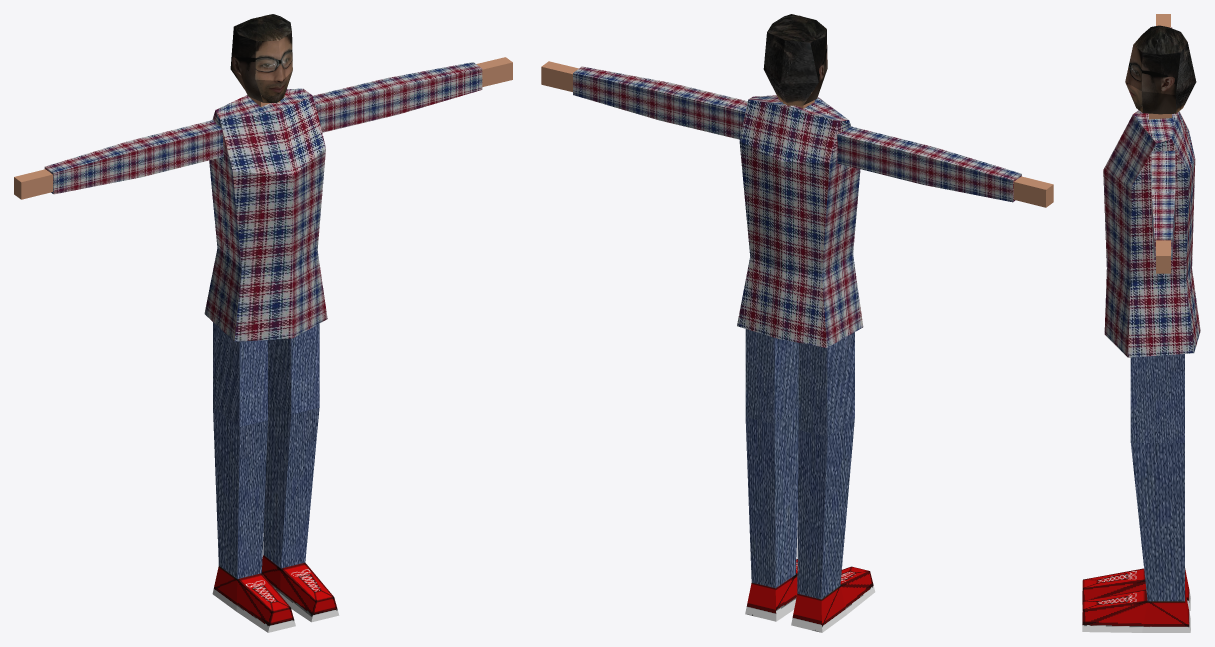
The model's file is Santiago (1).fbx.
3 renders of one model, left to right at view 1: azimuth 30°, elevation 25°; view 2: azimuth 150°, elevation 25°; view 3: azimuth 270°, elevation 25°, orthographic. The views are drawn at different scales.
Visible parts, largest first — view 1: Santi, Espinilla R, Espinilla L, Muslo R, Cabeza, Muslo L, Brazo delantero R, Brazo delantero L, Antebrazo R, Pie R, Antebrazo L, Pie L (+2 smaller); view 2: Santi, Espinilla L, Espinilla R, Muslo R, Cabeza, Muslo L, Brazo delantero R, Brazo delantero L, Antebrazo R, Antebrazo L, Pie R, Pie L (+2 smaller); view 3: Santi, Espinilla L, Cabeza, Muslo L, Pie L, Pie R, Antebrazo L, Brazo delantero L, Mano L, Mano R.
Boxes of the visible parts, box(x1,y1,x2,y2) form: Santi: box(204, 88, 327, 341); Espinilla R: box(213, 407, 267, 578); Espinilla L: box(263, 397, 319, 568); Muslo R: box(213, 322, 267, 426); Cabeza: box(230, 14, 292, 102); Muslo L: box(268, 324, 319, 414); Brazo delantero R: box(129, 120, 223, 177); Brazo delantero L: box(313, 78, 398, 132); Antebrazo R: box(44, 141, 140, 194); Pie R: box(212, 566, 295, 632); Antebrazo L: box(387, 62, 482, 114); Pie L: box(262, 555, 339, 622); Santi: box(737, 95, 863, 347); Espinilla L: box(745, 407, 798, 588); Espinilla R: box(797, 417, 854, 599); Muslo R: box(798, 332, 854, 436); Cabeza: box(763, 14, 827, 105); Muslo L: box(745, 329, 798, 423); Brazo delantero R: box(837, 126, 935, 184); Brazo delantero L: box(659, 83, 747, 139); Antebrazo R: box(923, 147, 1021, 202); Antebrazo L: box(573, 66, 670, 120); Pie R: box(791, 566, 875, 632); Pie L: box(745, 559, 797, 621); Santi: box(1103, 110, 1200, 357); Espinilla L: box(1131, 443, 1184, 601); Cabeza: box(1125, 25, 1196, 114); Muslo L: box(1130, 354, 1184, 442); Pie L: box(1082, 589, 1190, 632); Pie R: box(1082, 568, 1190, 610); Antebrazo L: box(1151, 192, 1175, 259); Brazo delantero L: box(1151, 150, 1175, 192); Mano L: box(1156, 240, 1170, 273); Mano R: box(1156, 14, 1170, 27).
Bounding box in the file's own units: 192 × 217 × 39.77.
